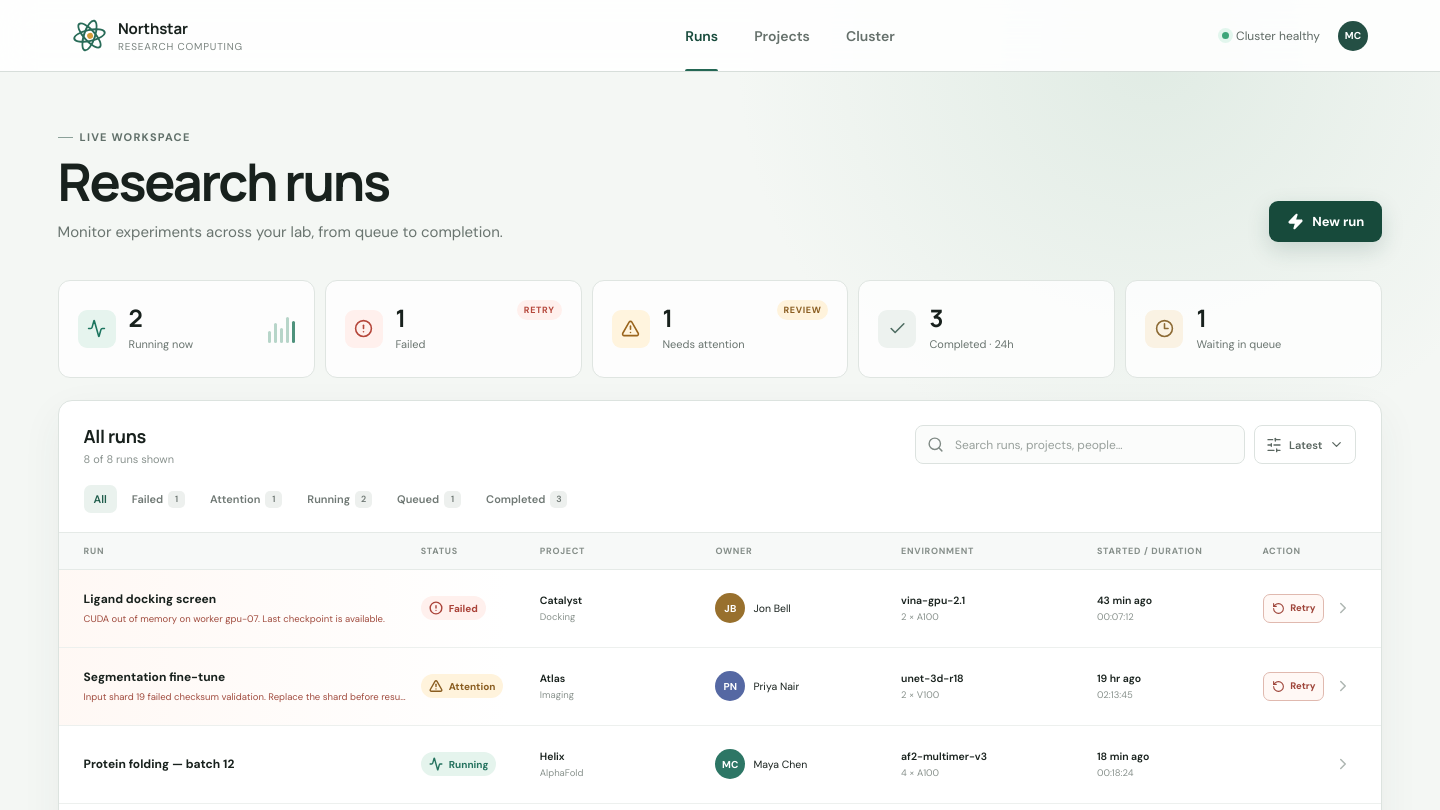
Test: Research runboard › opens and closes run details
Click the button with aria-label "View Ligand docking screen". click: [150, 599]
box: 84,591 -> 216,608
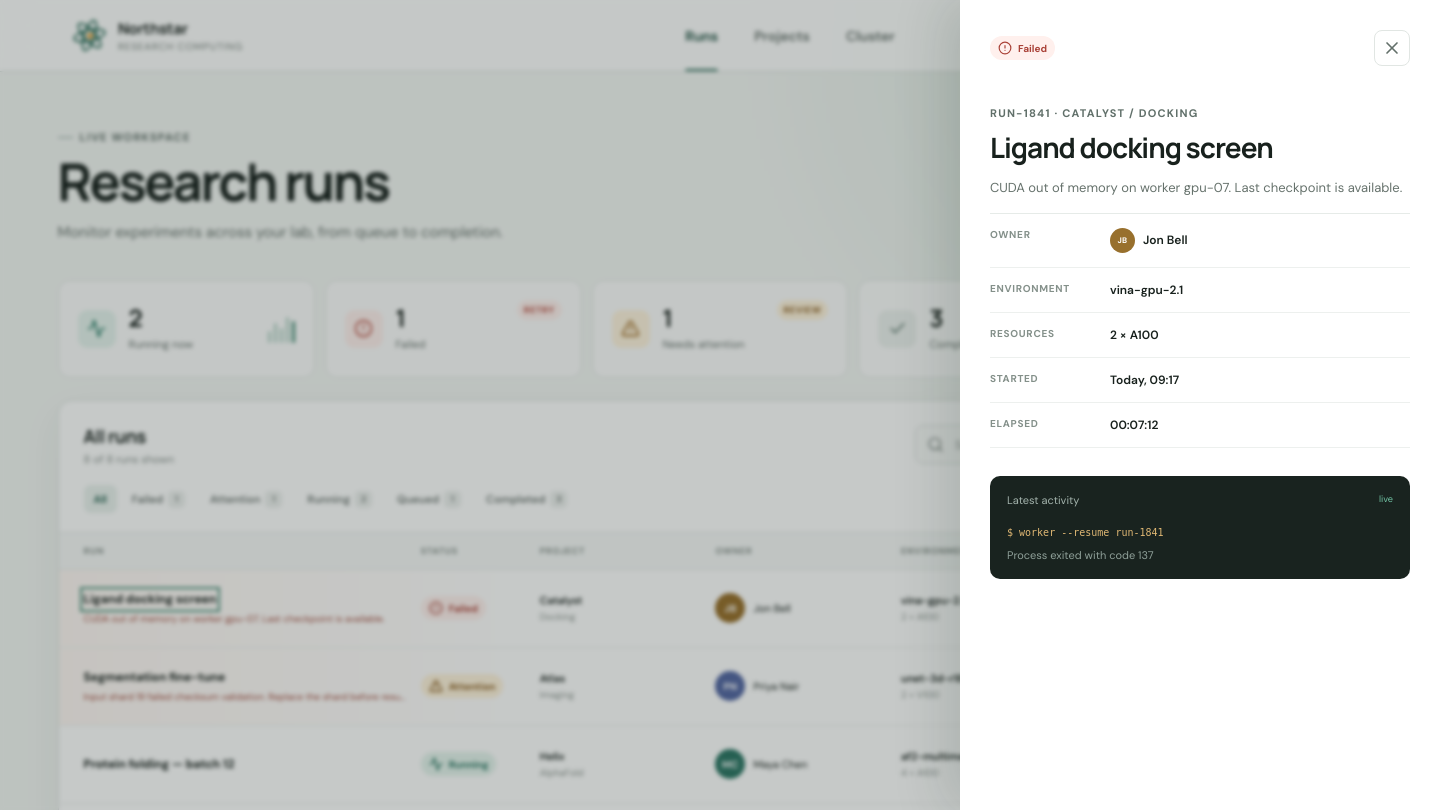
Check: the dialog "Ligand docking screen" is shown, box 960,0 -> 1439,809
Check: the text "CUDA out of memory" is shown, box 990,179 -> 1402,196
Click the button named "Close details". click: [1392, 48]
box: 1374,30 -> 1410,66
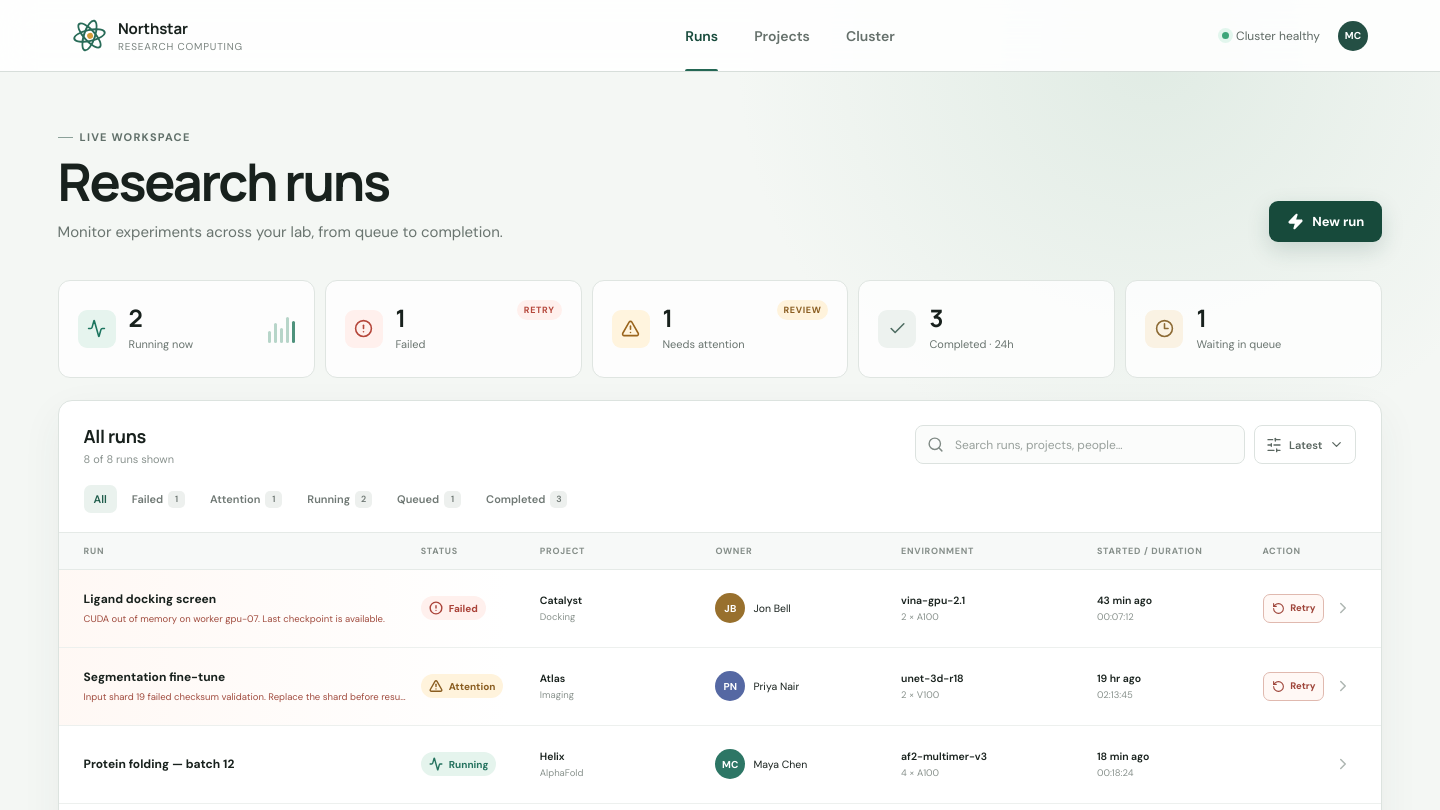
Check: the dialog is gone
